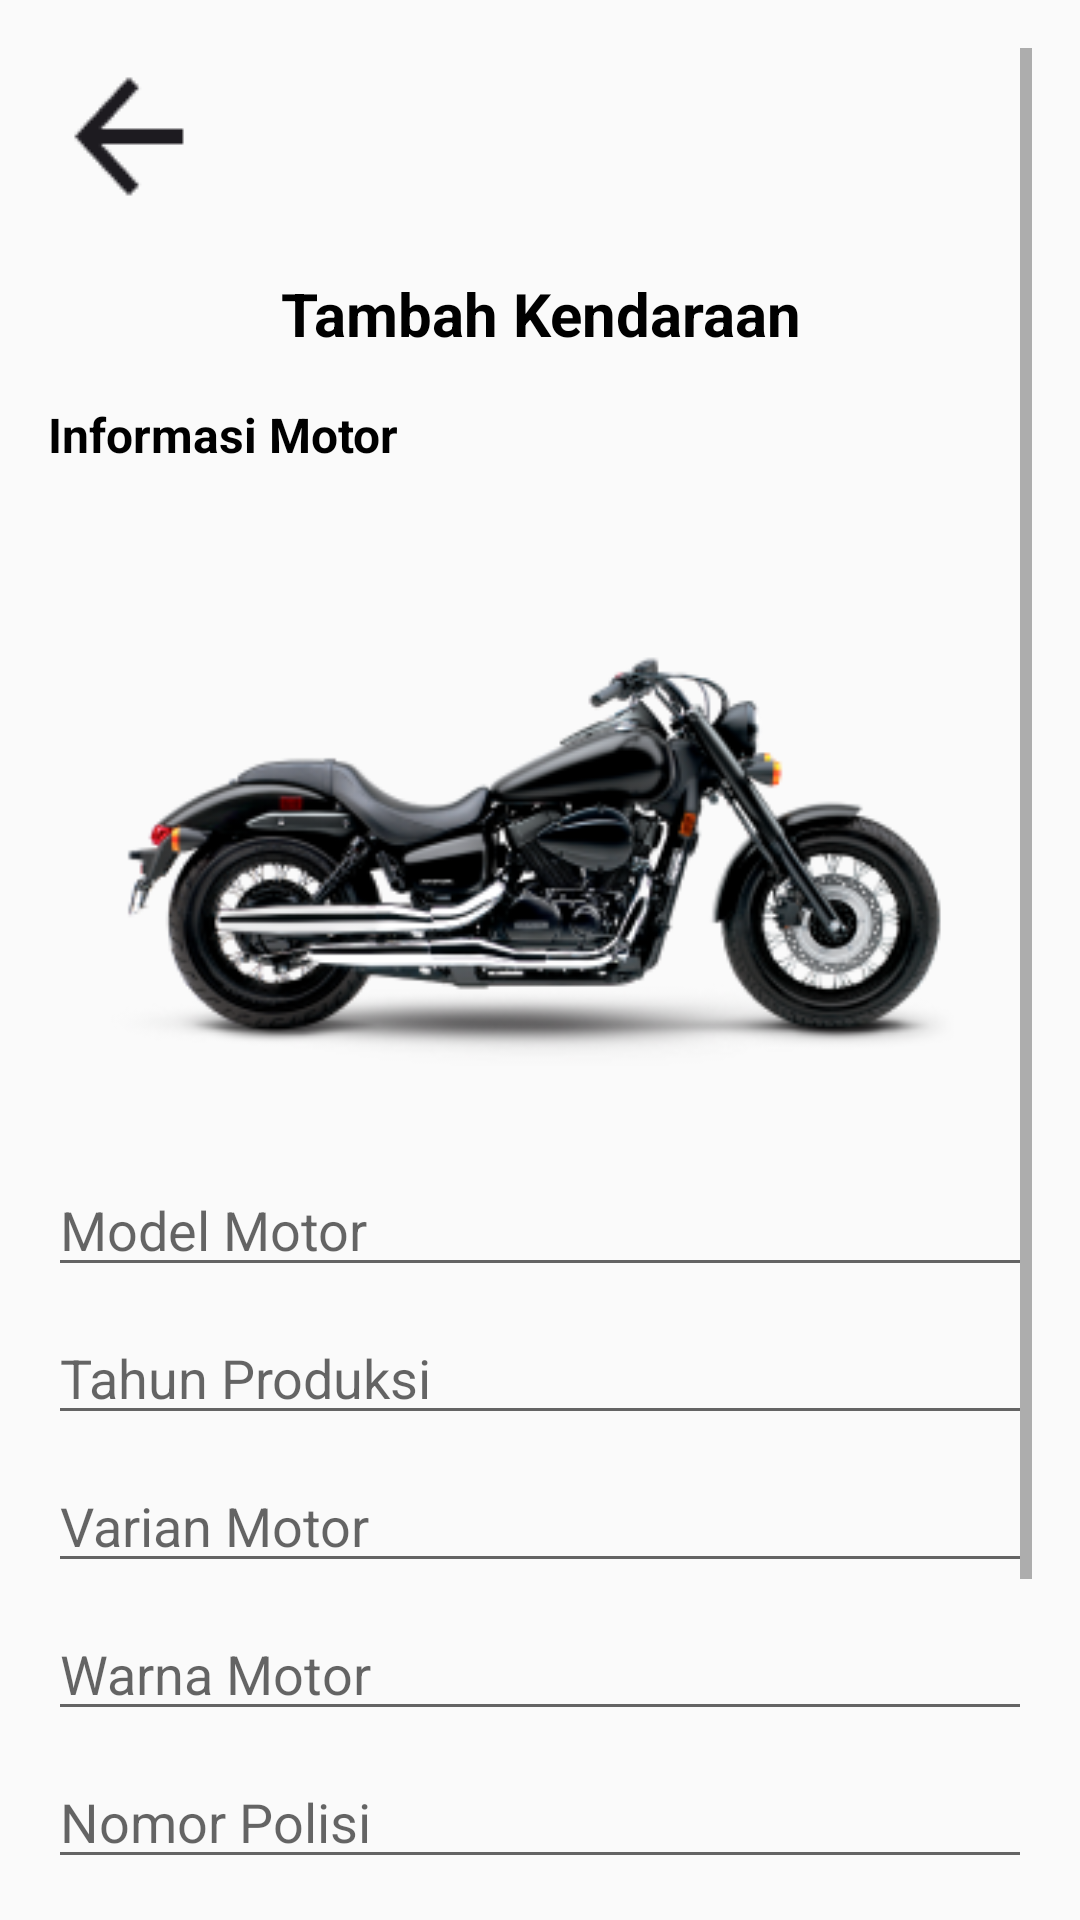

Point at icon controls on the screen. Image size 1080 x 1920, points as [x,y].
back: [129,136]
